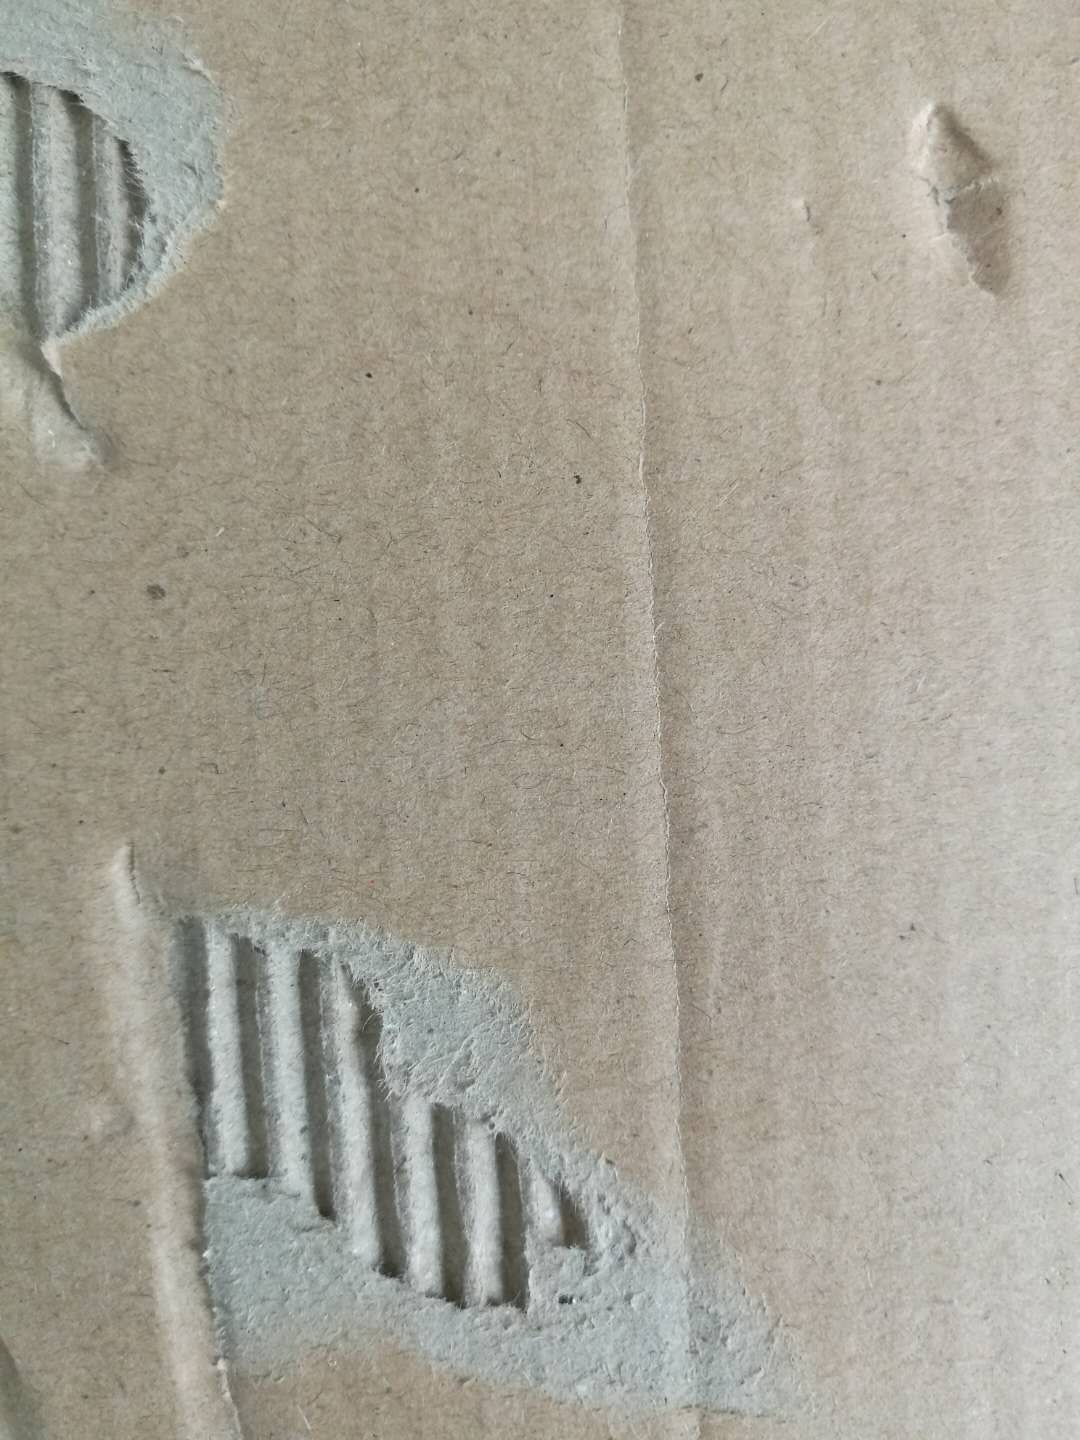defect: (64, 813, 910, 1440), (575, 1, 792, 1440), (1, 5, 248, 498), (891, 78, 1043, 338), (2, 1315, 49, 1440)
